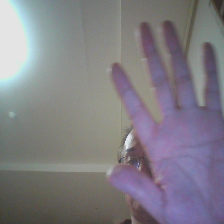hand: (108, 22, 223, 222)
